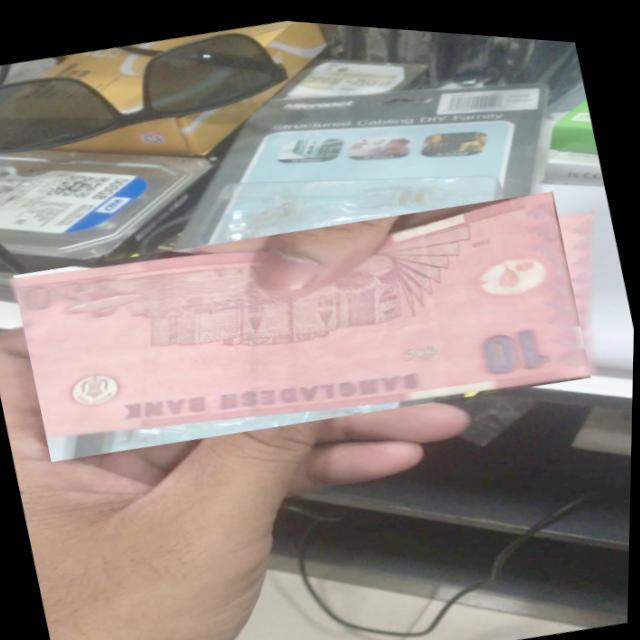Taka: (11, 151, 595, 491)
